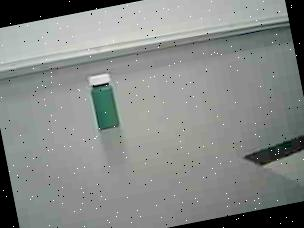Bottle C: (79, 66, 127, 134)
